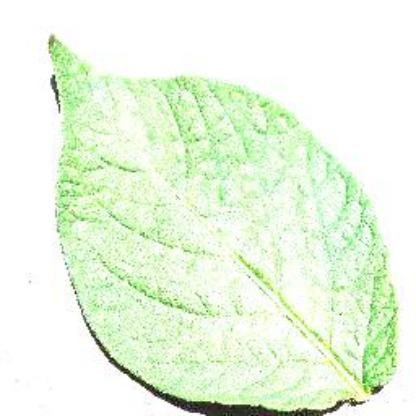Healthy-plant: (41, 27, 406, 403)
